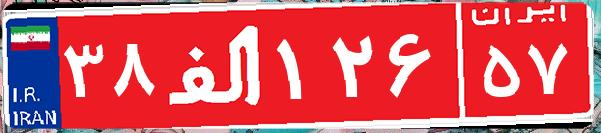1: (273, 28, 330, 110)
2: (330, 28, 385, 110)
3: (57, 26, 110, 107)
5: (475, 38, 525, 113)
6: (385, 28, 445, 110)
7: (525, 38, 570, 115)
8: (110, 28, 158, 105)
الف: (158, 15, 273, 115)
